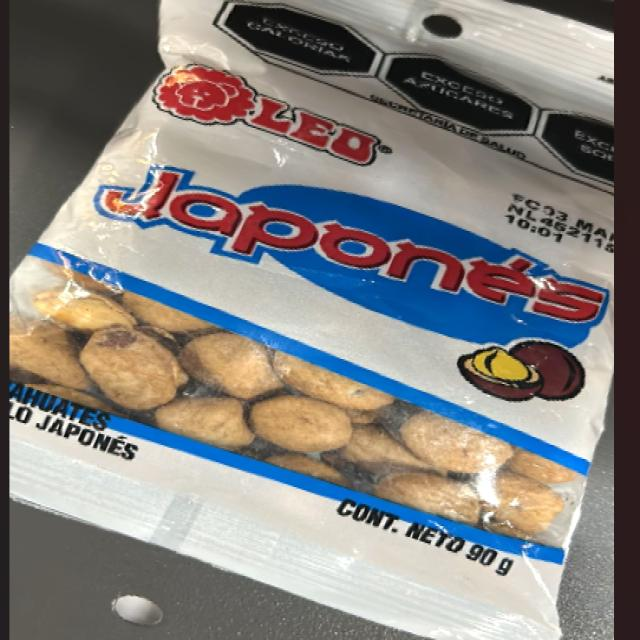leoCacahuates: (86, 64, 612, 554)
